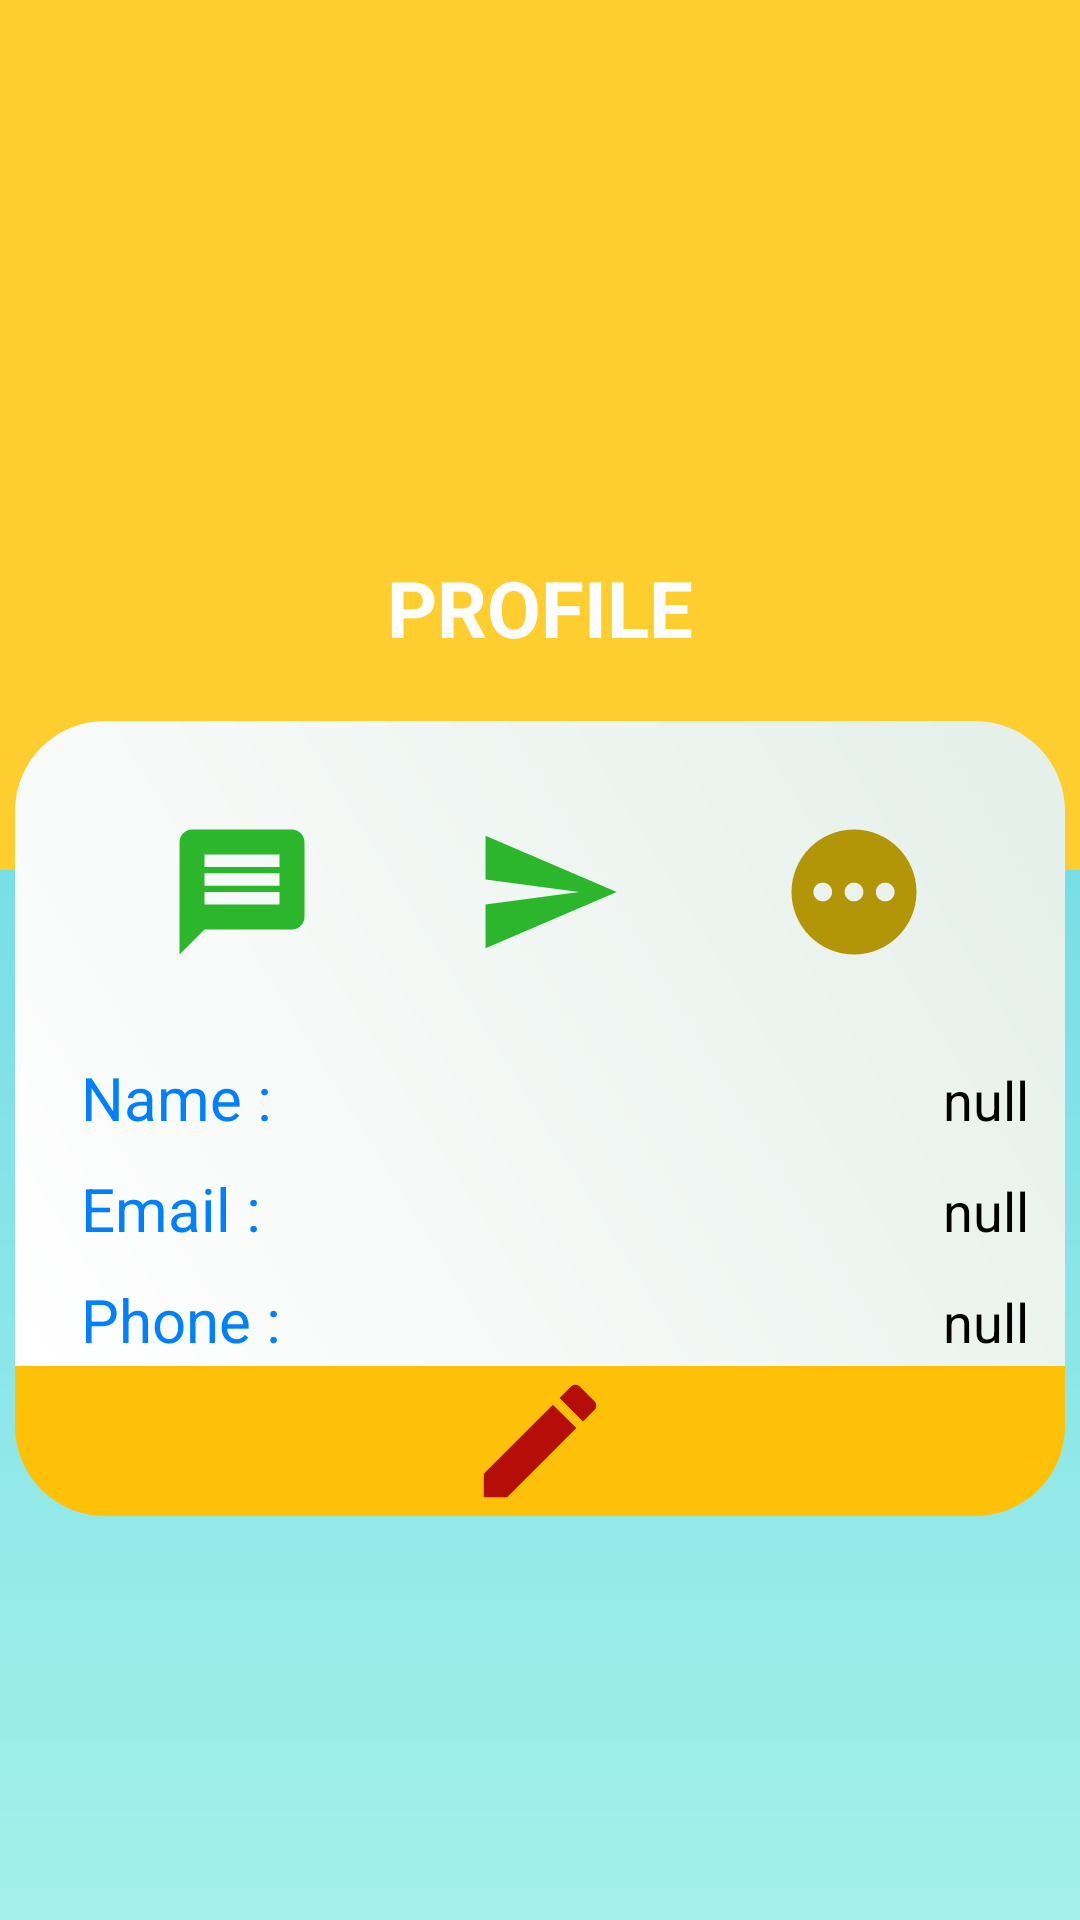

Named icons in this screenshot (1080px×1920px) and their bounding boxes, (x1, y1, x2, y2):
message: (179, 829, 305, 954)
pending: (791, 829, 917, 955)
send: (485, 836, 616, 948)
